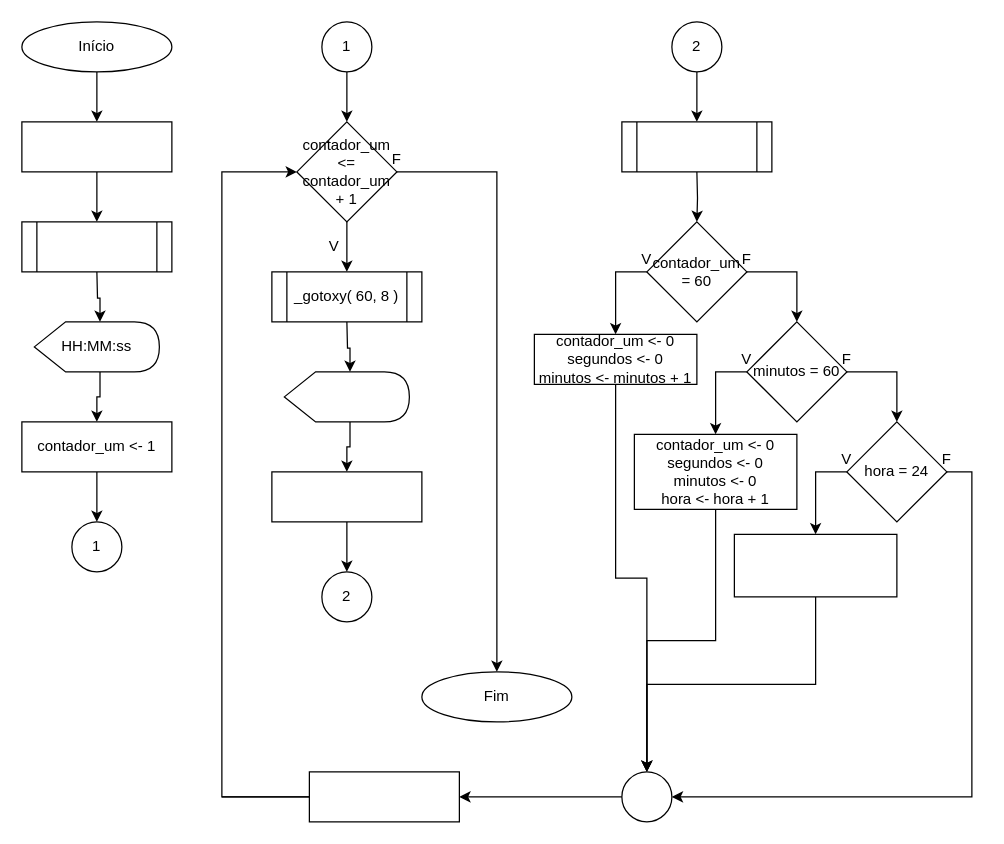
This 1004x844 diagram has some shape labels left out. Each missing label, with the centre of its shape:
"_gotoxy( 60, 7 )" goes at point 96,246.
"_sleep( 1 )" goes at point 696,146.
"contador_um <- 0 segundos <- 0 minutos <- 0 hora <- 0" goes at point 815,565.
"contador_um <- contador_um + 1" goes at point 383,796.
"hora, minutos, segundos" goes at point 346,396.
"segundos <- 0, minutos <- 0, hora <- 0" goes at point 96,146.
"segundos <- segundos + 1" goes at point 346,496.
